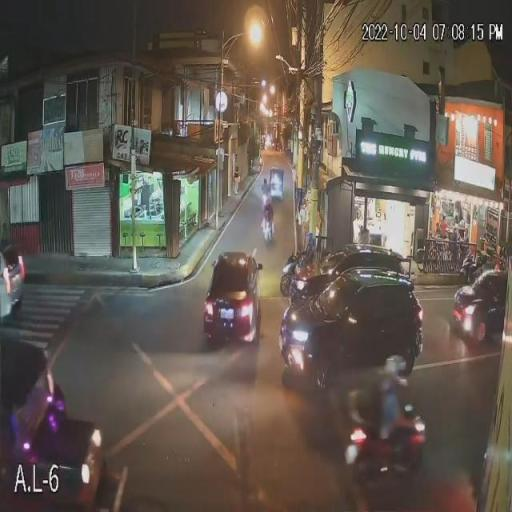helmet: (384, 354, 411, 390)
motorcycle: (343, 414, 431, 471)
rider: (378, 387, 413, 477)
